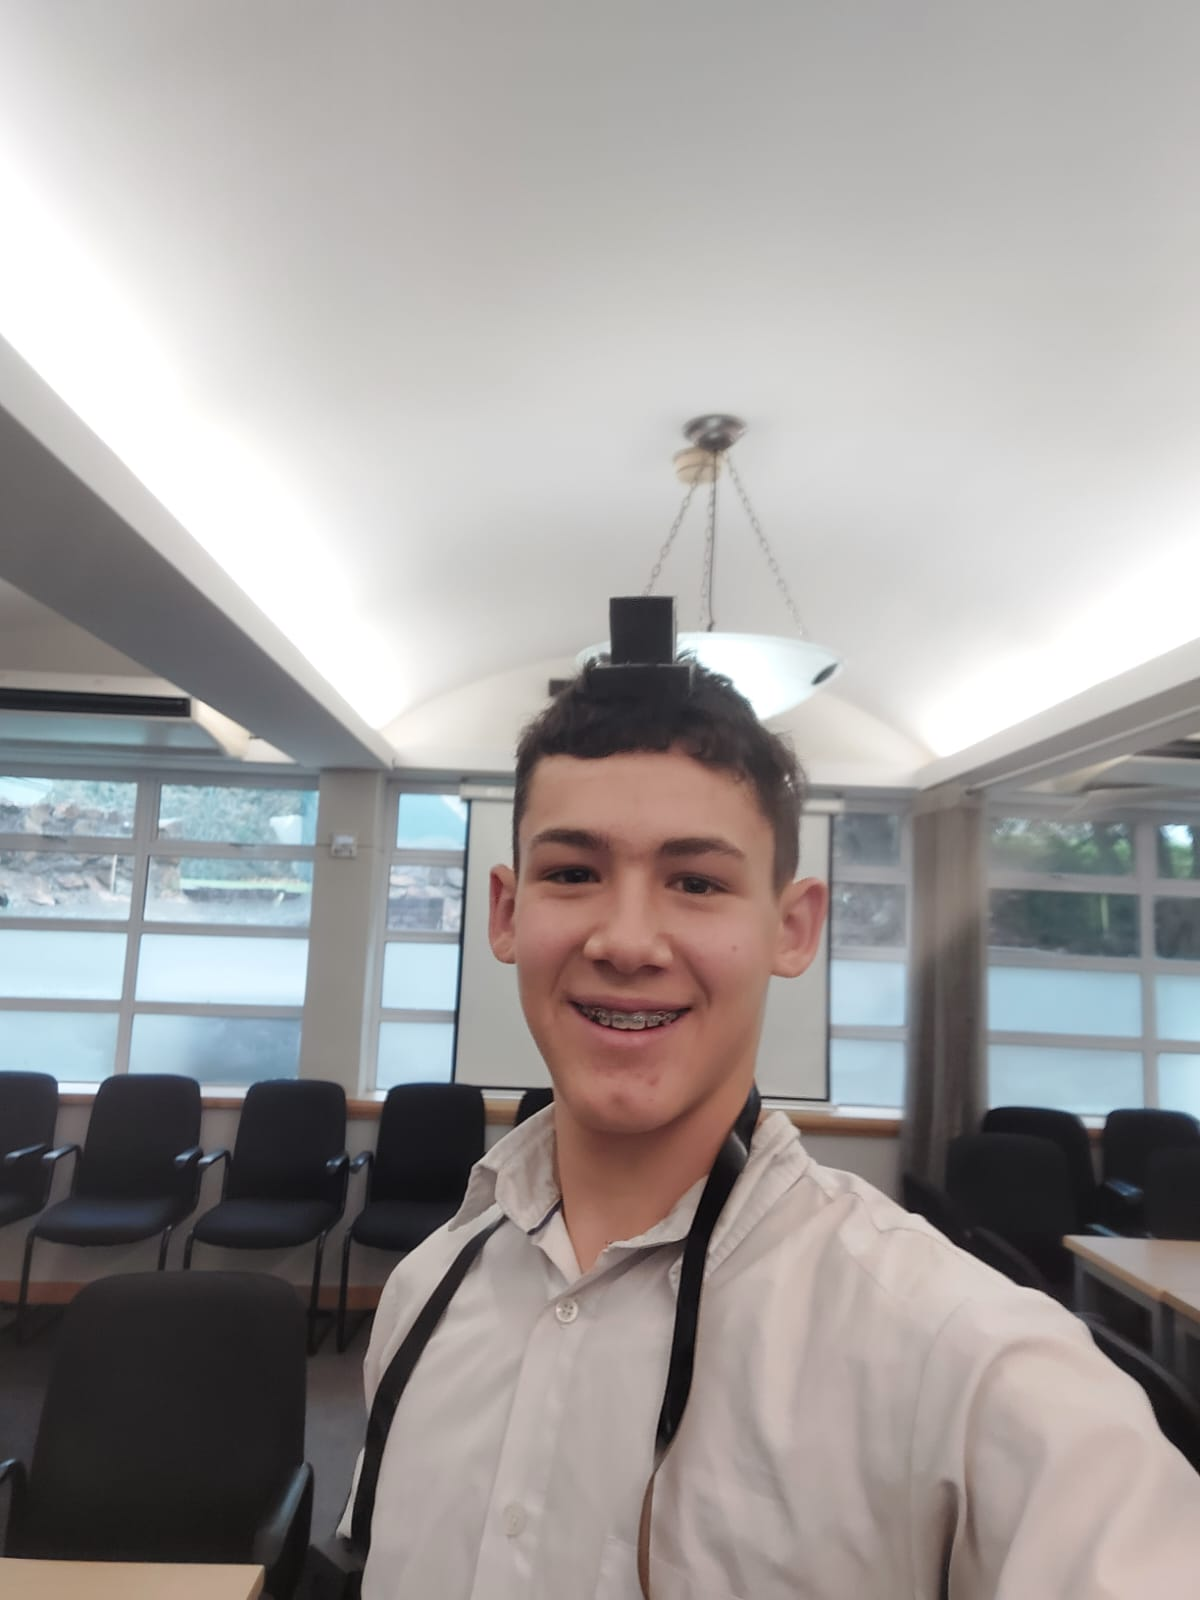tefillin: (582, 595, 698, 699)
